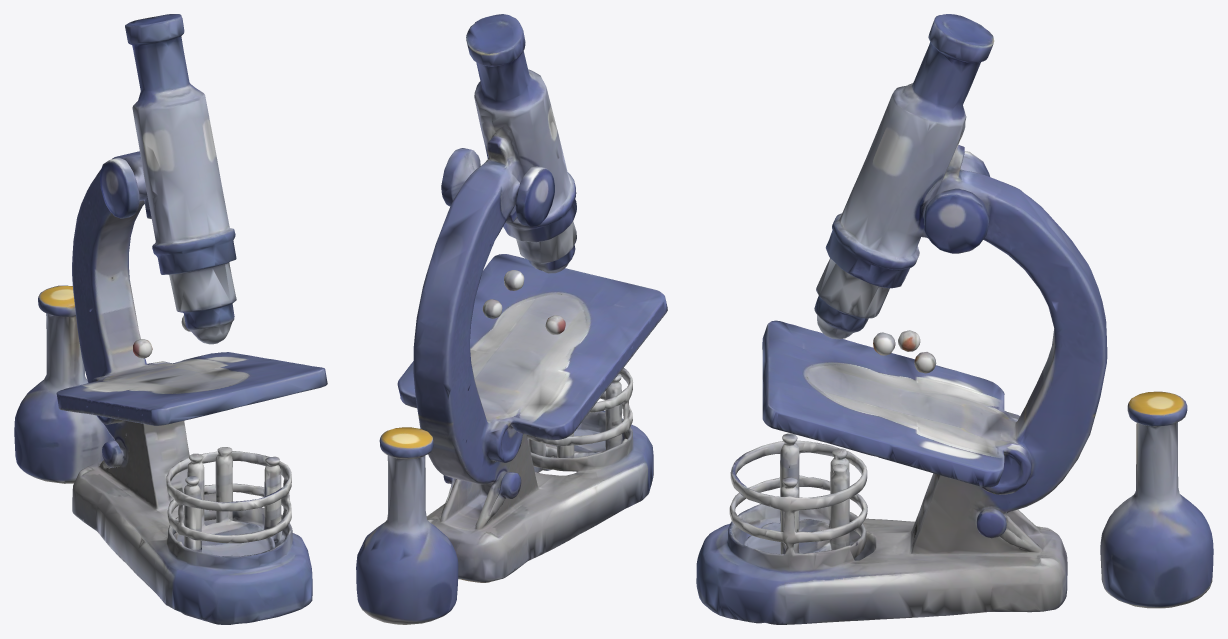
Rendered from exoplanet_lab.glb.
3 renders of one model, left to right at view 1: azimuth 30°, elevation 25°; view 2: azimuth 150°, elevation 25°; view 3: azimuth 270°, elevation 25°, orthographic. The views are drawn at different scales.
Bounding box in the file's own units: 0.6932 × 2 × 1.64.
Materials: 1 (1 with a texture image).
